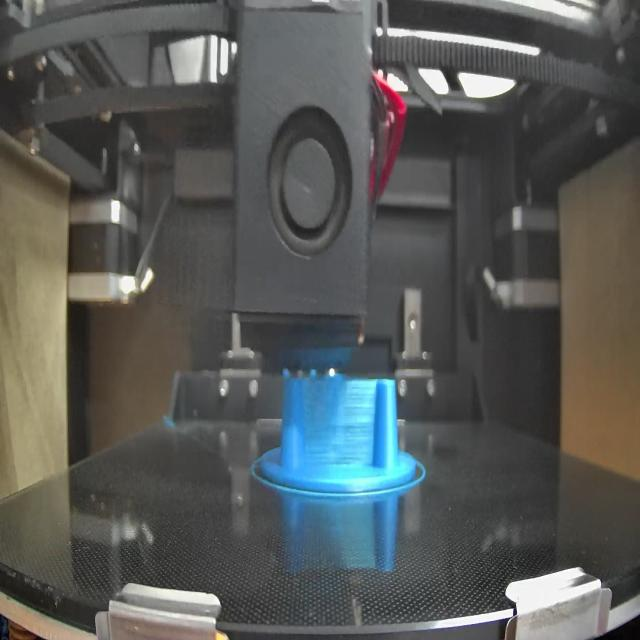stringing: (303, 381, 379, 471)
